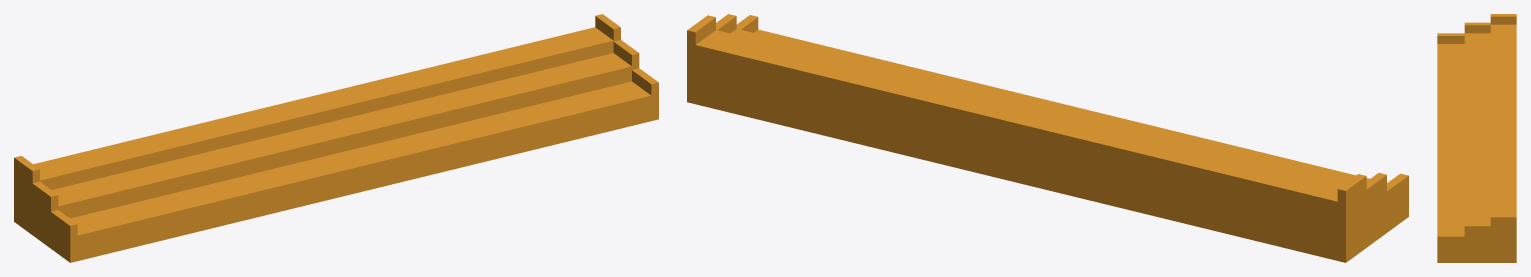
The model's file is Chair.fbx.
The picture shows the model from 3 angles, left to right: view 1: azimuth 30°, elevation 25°; view 2: azimuth 150°, elevation 25°; view 3: azimuth 270°, elevation 25°; orthographic projection. The views are drawn at different scales.
Parts seen in each view (by area): view 1: Chair; view 2: Chair; view 3: Chair.
Boxes of the visible parts, x1,y1,x2,y2 form: Chair: (14, 14, 658, 262); Chair: (687, 14, 1408, 262); Chair: (1437, 14, 1516, 262).
Bounding box in the file's own units: 1810 × 189 × 299.
